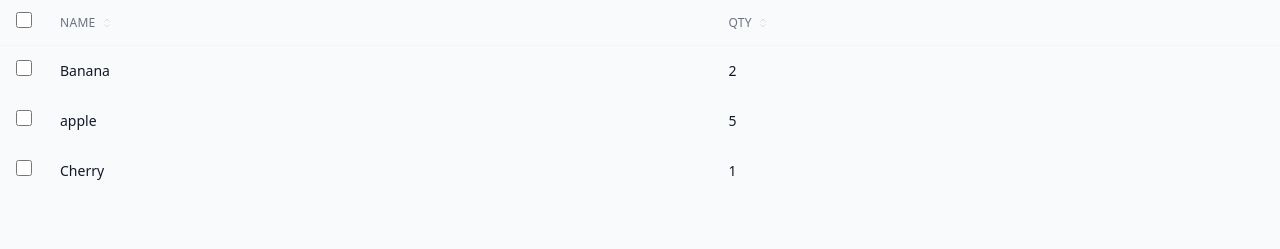
Test: DataTable › keeps a row checked (controlled by the parent's state) after clicking it, instead of reverting
Click the checkbox next to "Banana".
click(24, 68)  # box [16, 60, 32, 76]
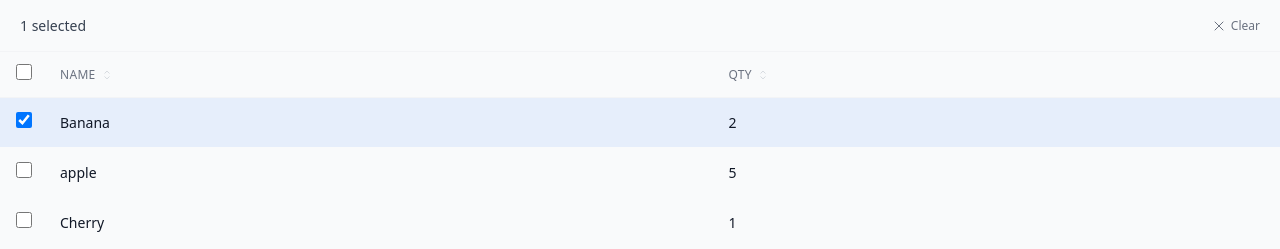
Expected: the checkbox next to "Banana" is checked, [16, 112, 32, 128]
Expected: the text "1 selected" is shown, [20, 16, 86, 36]
